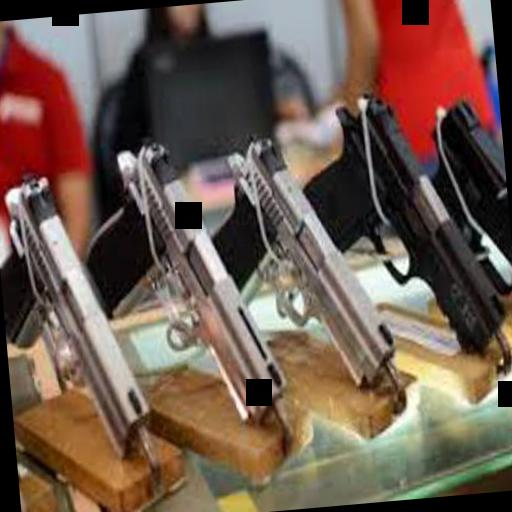Handgun: (67, 129, 293, 444), (300, 86, 512, 390), (205, 115, 408, 410), (0, 165, 159, 467)
